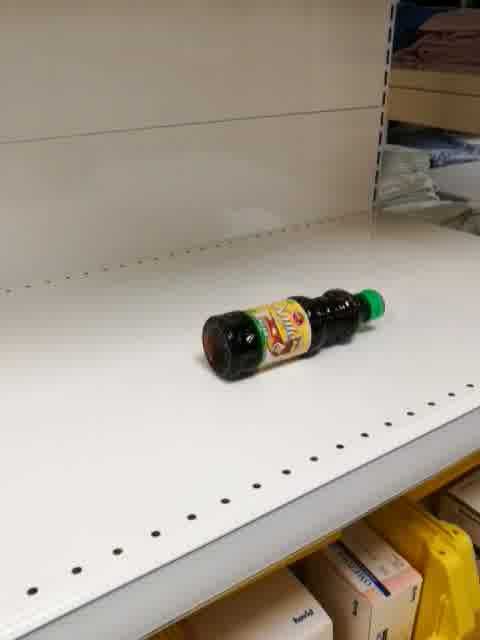cookingoil: (199, 288, 387, 384)
